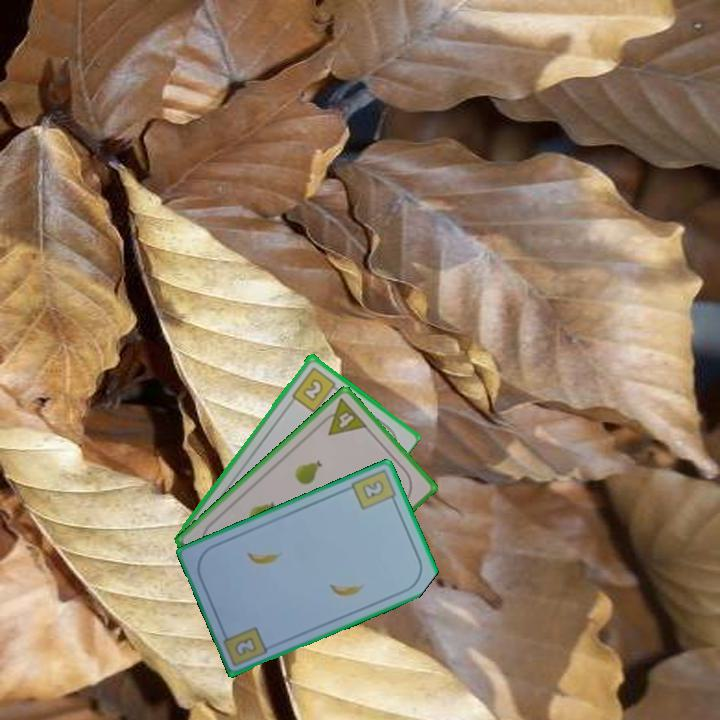2b: (288, 363, 342, 415), (347, 466, 400, 513), (231, 633, 260, 659)
4p: (316, 395, 370, 438)
